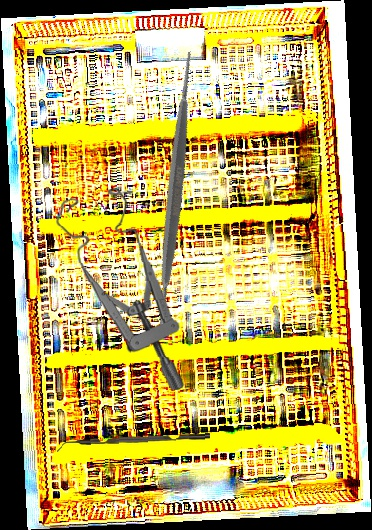Chopper: (56, 433, 211, 452)
Spatula Surgical: (23, 43, 325, 344)
Speculum: (54, 185, 186, 397)
